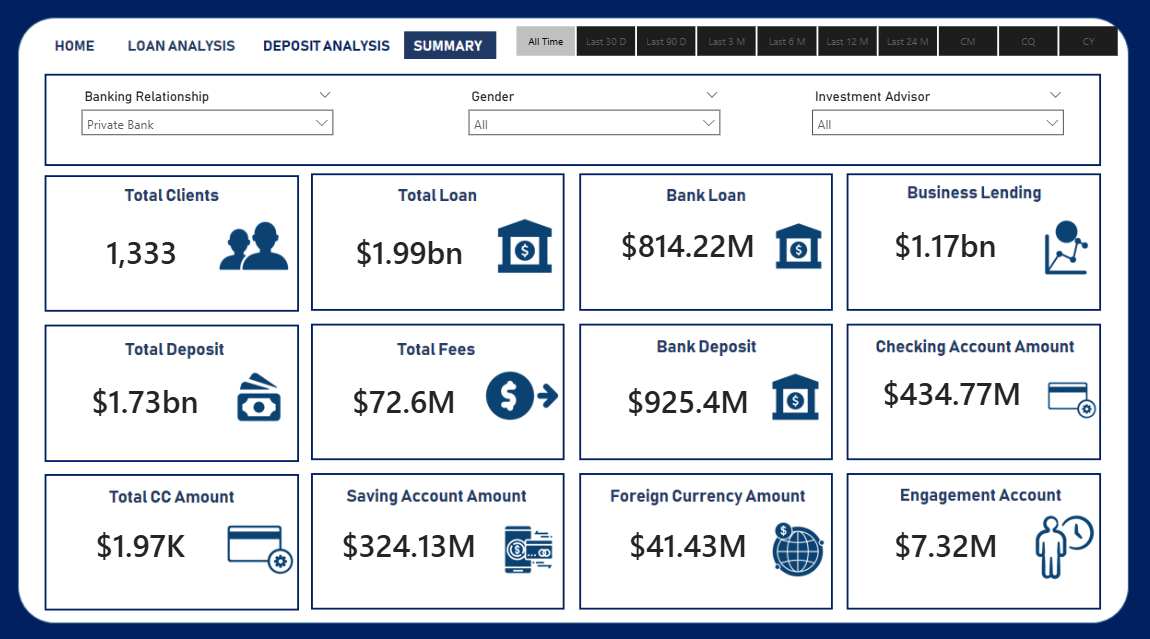

The page's visual inventory and layout, read from the dashboard file:
{"tool":"powerbi","page":{"name":"Summary","canvas":[1280,720],"ordinal":3},"visuals":[{"type":"card","fields":{"Values":["DAX Measures.Engagment Length"]},"box":[946.3,546.4,198.2,114.9],"z":0},{"type":"card","fields":{"Values":["DAX Measures.Foreign Currency Account"]},"box":[667.2,546.4,198.2,114.9],"z":1000},{"type":"card","fields":{"Values":["DAX Measures.Bank Deposit"]},"box":[667.2,390.5,198.2,114.9],"z":2000},{"type":"card","fields":{"Values":["DAX Measures.Checking Accounts"]},"box":[953.4,382.3,198.2,114.9],"z":3000},{"type":"card","fields":{"Values":["DAX Measures.Bank Loan"]},"box":[667.2,220.5,198.2,114.9],"z":4000},{"type":"card","fields":{"Values":["DAX Measures.Business Lending"]},"box":[953.4,220.5,184.1,114.9],"z":5000},{"type":"card","fields":{"Values":["DAX Measures.Savings Account"]},"box":[360,546.4,207.6,114.9],"z":6000},{"type":"card","fields":{"Values":["DAX Measures.Total CC Amount"]},"box":[72.7,546.4,198.2,114.9],"z":7000},{"type":"card","fields":{"Values":["DAX Measures.Total Deposit"]},"box":[78.6,390.5,198.2,114.9],"z":8000},{"type":"card","fields":{"Values":["DAX Measures.Total Fees"]},"box":[365.9,390.5,184.1,114.9],"z":9000},{"type":"card","fields":{"Values":["DAX Measures.Total Clients"]},"box":[75,228.7,198.2,114.9],"z":10000},{"type":"card","fields":{"Values":["DAX Measures.Total Loan"]},"box":[365.9,228.7,195.8,114.9],"z":11000},{"type":"slicer","fields":{"Values":["Banking Relationship.Banking Relationship"]},"box":[98.5,104.3,292.9,75.7],"z":12000},{"type":"slicer","fields":{"Values":["Gender.Gender"]},"box":[518.9,104.3,292.9,75.7],"z":13000},{"type":"slicer","fields":{"Values":["Investment Advisor.Investment Advisor"]},"box":[891.3,104.3,292.9,75.7],"z":14000},{"type":"slicer","fields":{"Values":["Period.Name"]},"box":[555.2,34.6,702.1,46.6],"z":15000},{"type":"actionButton","box":[72.8,44.2,58.5,31],"z":16000},{"type":"actionButton","box":[306.9,44.7,119.4,31],"z":17000},{"type":"actionButton","box":[297.9,44.6,147.8,30.5],"z":18000},{"type":"actionButton","box":[157.1,44.6,125.5,30.5],"z":19000}]}

Visuals, with their boxes in screenshot pixels (x1, y1, x2, y2), scaled from the page's 1280x720 canvas onto the 1150x639 screenshot:
card - DAX Measures.Engagment Length: left=850, top=485, right=1028, bottom=587
card - DAX Measures.Foreign Currency Account: left=599, top=485, right=778, bottom=587
card - DAX Measures.Bank Deposit: left=599, top=347, right=778, bottom=449
card - DAX Measures.Checking Accounts: left=857, top=339, right=1035, bottom=441
card - DAX Measures.Bank Loan: left=599, top=196, right=778, bottom=298
card - DAX Measures.Business Lending: left=857, top=196, right=1022, bottom=298
card - DAX Measures.Savings Account: left=323, top=485, right=510, bottom=587
card - DAX Measures.Total CC Amount: left=65, top=485, right=243, bottom=587
card - DAX Measures.Total Deposit: left=71, top=347, right=249, bottom=449
card - DAX Measures.Total Fees: left=329, top=347, right=494, bottom=449
card - DAX Measures.Total Clients: left=67, top=203, right=245, bottom=305
card - DAX Measures.Total Loan: left=329, top=203, right=505, bottom=305
slicer - Banking Relationship.Banking Relationship: left=88, top=93, right=352, bottom=160
slicer - Gender.Gender: left=466, top=93, right=729, bottom=160
slicer - Investment Advisor.Investment Advisor: left=801, top=93, right=1064, bottom=160
slicer - Period.Name: left=499, top=31, right=1130, bottom=72
actionButton: left=65, top=39, right=118, bottom=67
actionButton: left=276, top=40, right=383, bottom=67
actionButton: left=268, top=40, right=400, bottom=67
actionButton: left=141, top=40, right=254, bottom=67
